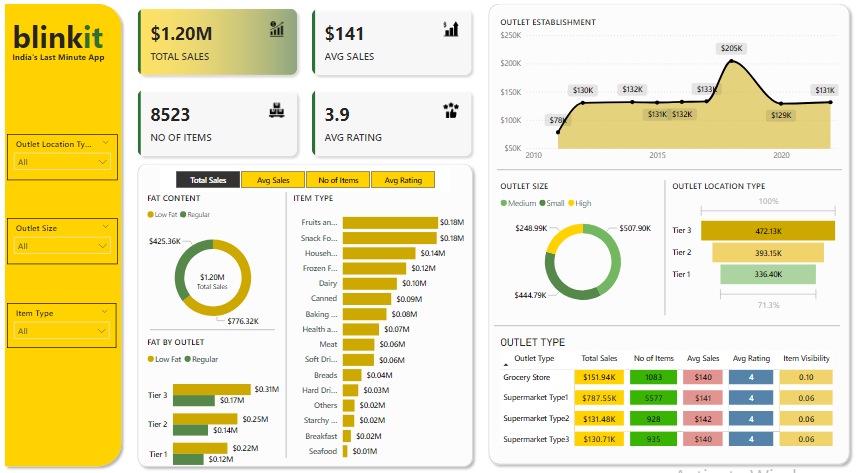

Layout of this report page (visuals, bound fields, positions):
{"tool":"powerbi","page":{"name":"Page 1","canvas":[1400,800],"ordinal":0},"visuals":[{"type":"shape","box":[17.6,24,204.8,758.4],"z":0},{"type":"textbox","box":[34.2,45.7,169.3,74.2],"z":1000},{"type":"textbox","box":[33.6,104,169.6,28.8],"z":2000},{"type":"cardVisual","fields":{"Data":["BlinkIT Grocery Data.Total Sales","BlinkIT Grocery Data.Avg Sales","BlinkIT Grocery Data.No of Items","BlinkIT Grocery Data.Avg Rating"]},"box":[222.6,24.7,568.8,270.1],"z":3000},{"type":"shape","box":[230.2,279.6,554,503],"z":4000},{"type":"donutChart","title":"FAT CONTENT","fields":{"Y":["BlinkIT Grocery Data.Total Sales"],"Category":["BlinkIT Grocery Data.Item Fat Content"]},"box":[249.2,334.8,220.7,230.2],"z":5000},{"type":"slicer","fields":{"Values":["Metrics.Metrics"]},"box":[275,295.1,464.1,40.4],"z":6000},{"type":"cardVisual","fields":{"Data":["BlinkIT Grocery Data.Total Sales"]},"box":[315.8,445.1,87.5,57.1],"z":7000},{"type":"clusteredBarChart","title":"FAT BY OUTLET","fields":{"Y":["BlinkIT Grocery Data.Total Sales"],"Category":["BlinkIT Grocery Data.Outlet Location Type"],"Series":["BlinkIT Grocery Data.Item Fat Content"]},"box":[249.2,564.9,220.7,232.1],"z":8000},{"type":"shape","box":[258.7,538.3,199.7,34.2],"z":9000},{"type":"shape","box":[469.8,334.8,13.3,426.1],"z":10000},{"type":"barChart","title":"ITEM TYPE","fields":{"Y":["BlinkIT Grocery Data.Total Sales"],"Category":["BlinkIT Grocery Data.Item Type"]},"box":[483.2,334.8,283.4,439.4],"z":11000},{"type":"shape","box":[791.3,24.7,595.4,755.2],"z":12000},{"type":"lineChart","title":"OUTLET ESTABLISHMENT","fields":{"Y":["BlinkIT Grocery Data.Total Sales"],"Category":["BlinkIT Grocery Data.Outlet Establishment Year"]},"box":[814.1,53.3,551.6,241.6],"z":13000},{"type":"shape","box":[814.4,281.6,552,33.6],"z":14000},{"type":"donutChart","title":"OUTLET SIZE","fields":{"Category":["BlinkIT Grocery Data.Outlet Size"],"Y":["BlinkIT Grocery Data.Total Sales"]},"box":[814.8,315.3,275,216.9],"z":15000},{"type":"shape","box":[1077.1,315.3,12.6,216.9],"z":16000},{"type":"funnel","title":"OUTLET LOCATION TYPE","fields":{"Y":["Sum(BlinkIT Grocery Data.Sales)"],"Category":["BlinkIT Grocery Data.Outlet Location Type"]},"box":[1089.9,315.8,275.8,214.9],"z":17000},{"type":"shape","box":[810.3,530.7,553.5,34.2],"z":18000},{"type":"pivotTable","title":"OUTLET TYPE","fields":{"Rows":["BlinkIT Grocery Data.Outlet Type"],"Values":["BlinkIT Grocery Data.Total Sales","BlinkIT Grocery Data.No of Items","BlinkIT Grocery Data.Avg Sales","BlinkIT Grocery Data.Avg Rating","Avg(BlinkIT Grocery Data.Item Visibility)"]},"box":[814.1,564.9,572.6,218.8],"z":19000},{"type":"slicer","fields":{"Values":["BlinkIT Grocery Data.Outlet Location Type"]},"box":[30.4,241.6,176.9,74.2],"z":19001},{"type":"slicer","fields":{"Values":["BlinkIT Grocery Data.Outlet Size"]},"box":[30.4,376.6,176.9,74.2],"z":19002},{"type":"slicer","fields":{"Values":["BlinkIT Grocery Data.Item Type"]},"box":[30.4,511.7,175,72.3],"z":19003}]}

Visuals, with their boxes on the page's 1400x800 design canvas (x1, y1, x2, y2). These are canvas units, not pixel positions in the 859x473 screenshot, which may show the page scaled, cropped or inside an application window:
shape: [left=18, top=24, right=222, bottom=782]
textbox: [left=34, top=46, right=204, bottom=120]
textbox: [left=34, top=104, right=203, bottom=133]
cardVisual - BlinkIT Grocery Data.Total Sales x BlinkIT Grocery Data.Avg Sales: [left=223, top=25, right=791, bottom=295]
shape: [left=230, top=280, right=784, bottom=783]
"FAT CONTENT" donutChart: [left=249, top=335, right=470, bottom=565]
slicer - Metrics.Metrics: [left=275, top=295, right=739, bottom=336]
cardVisual - BlinkIT Grocery Data.Total Sales: [left=316, top=445, right=403, bottom=502]
"FAT BY OUTLET" clusteredBarChart: [left=249, top=565, right=470, bottom=797]
shape: [left=259, top=538, right=458, bottom=572]
shape: [left=470, top=335, right=483, bottom=761]
"ITEM TYPE" barChart: [left=483, top=335, right=767, bottom=774]
shape: [left=791, top=25, right=1387, bottom=780]
"OUTLET ESTABLISHMENT" lineChart: [left=814, top=53, right=1366, bottom=295]
shape: [left=814, top=282, right=1366, bottom=315]
"OUTLET SIZE" donutChart: [left=815, top=315, right=1090, bottom=532]
shape: [left=1077, top=315, right=1090, bottom=532]
"OUTLET LOCATION TYPE" funnel: [left=1090, top=316, right=1366, bottom=531]
shape: [left=810, top=531, right=1364, bottom=565]
"OUTLET TYPE" pivotTable: [left=814, top=565, right=1387, bottom=784]
slicer - BlinkIT Grocery Data.Outlet Location Type: [left=30, top=242, right=207, bottom=316]
slicer - BlinkIT Grocery Data.Outlet Size: [left=30, top=377, right=207, bottom=451]
slicer - BlinkIT Grocery Data.Item Type: [left=30, top=512, right=205, bottom=584]
